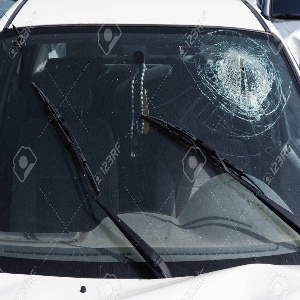front_windshield_glass: (120, 48, 300, 241)
